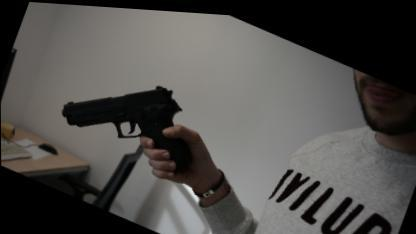pistol: (56, 48, 211, 174)
